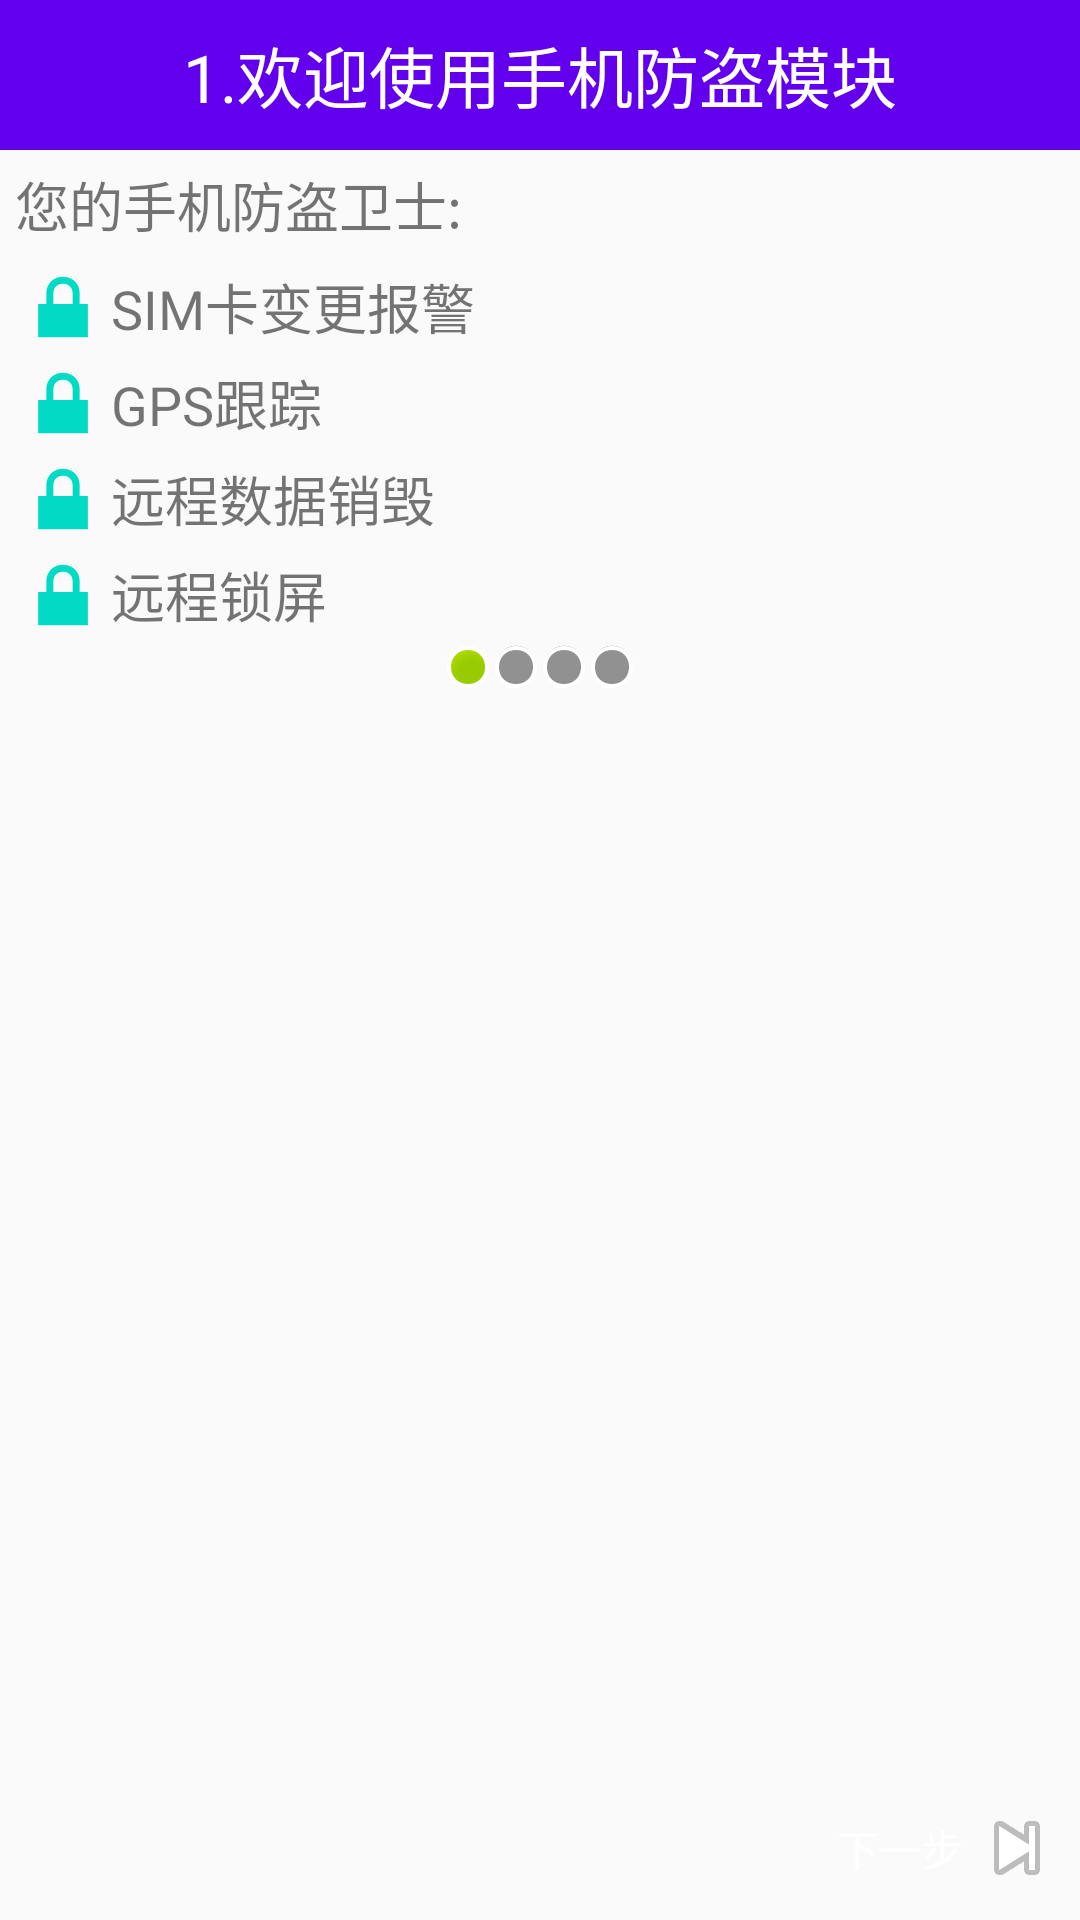

Locate icon controls on the screen. Image size 1080px x 1920px, boxes as (x1, y1, x2, y2).
presence invisible: (499, 646, 533, 684), (547, 646, 581, 684), (595, 646, 629, 684)
presence online: (451, 650, 485, 684)
